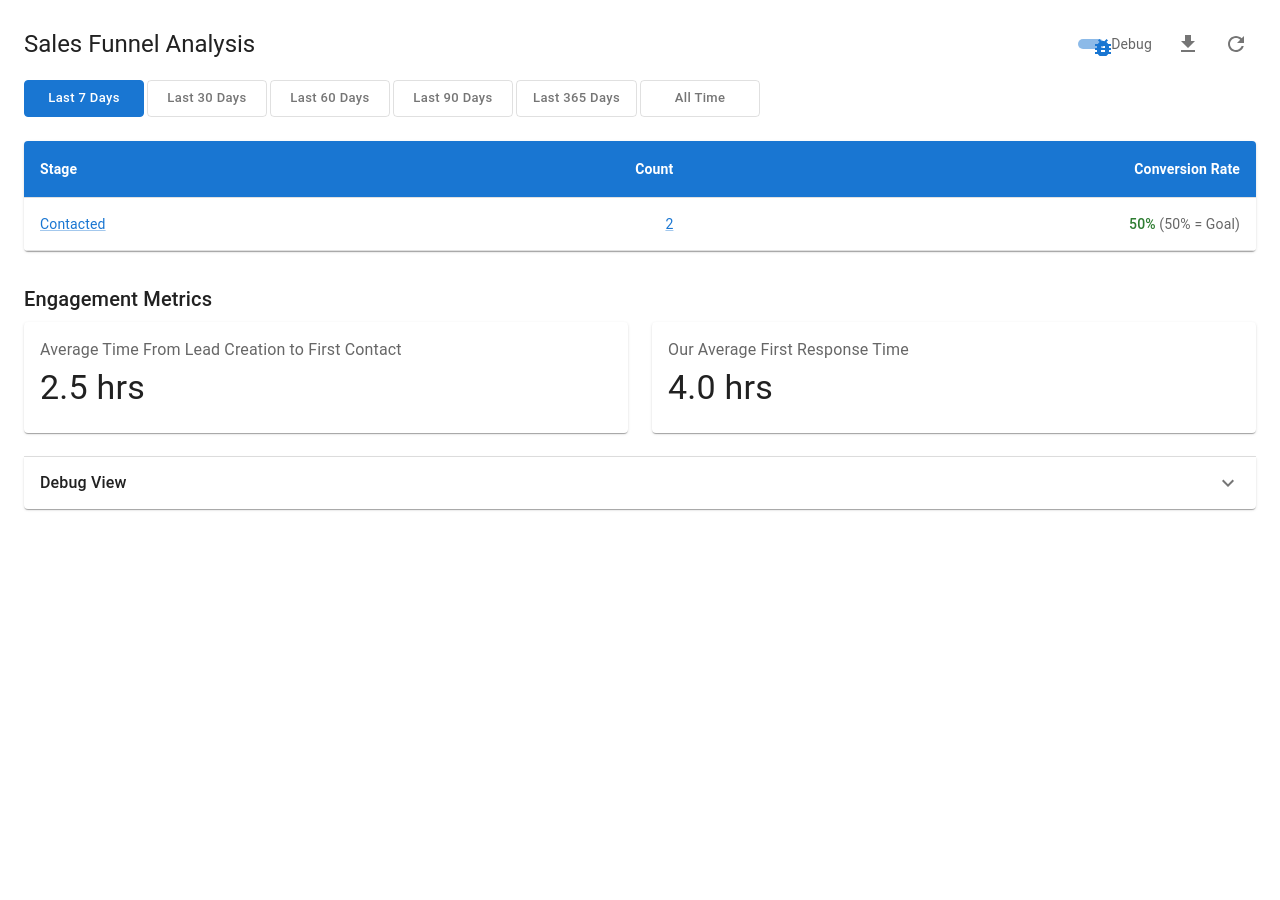
Test: SalesFunnelReportComponent › Stage Drill-Down › should open stage leads modal when stage row is clicked in debug mode
Expected: the table is shown, [24, 141, 1256, 251]
Click on the stage row
Click the row "Contacted 2 50% (50% = Goal)".
click(640, 224)  # box [24, 197, 1256, 250]
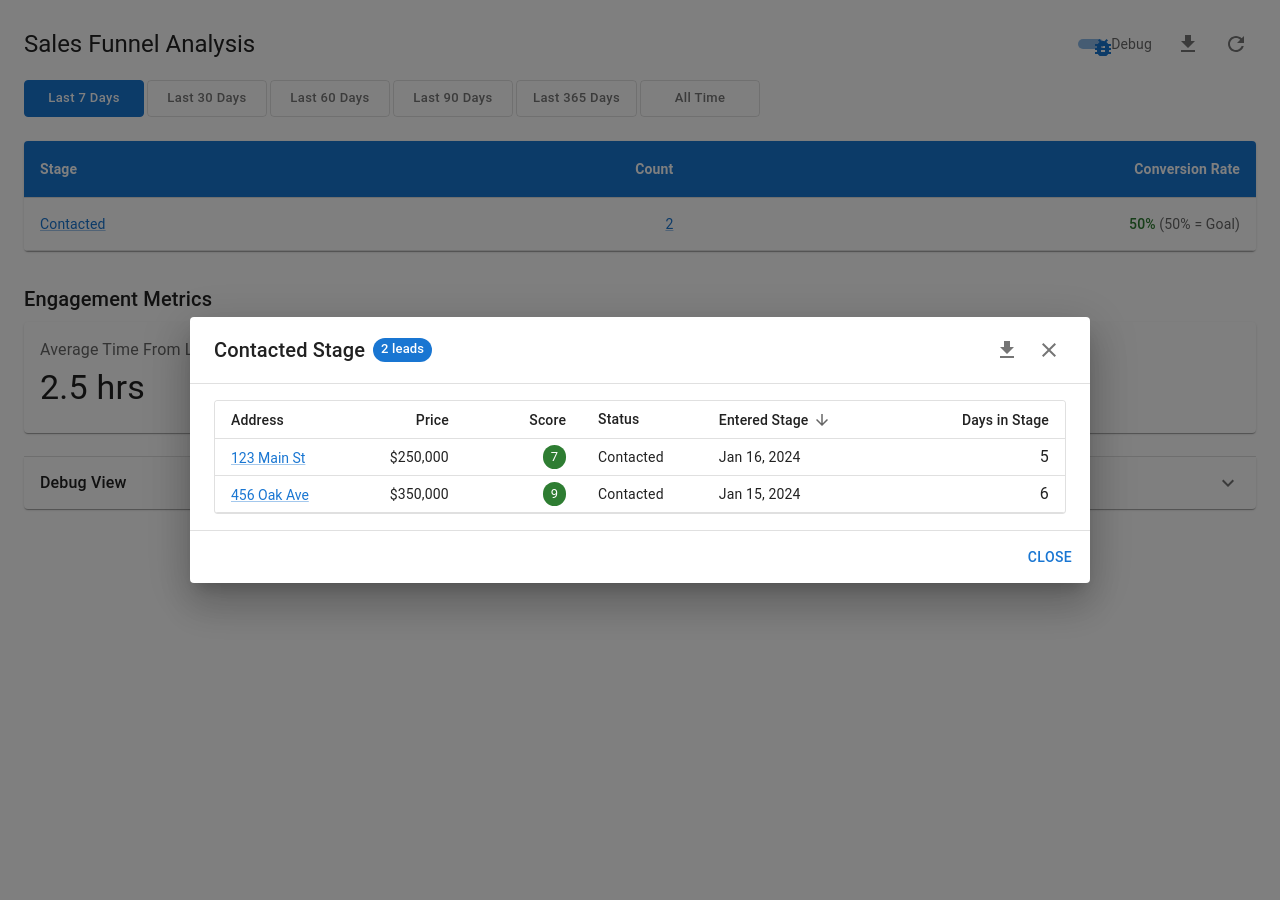
Expected: the dialog is shown, [190, 317, 1090, 583]
Expected: the heading "Contacted Stage" is shown, [214, 334, 365, 366]
